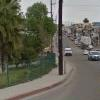Tree: (9, 0, 58, 67)
